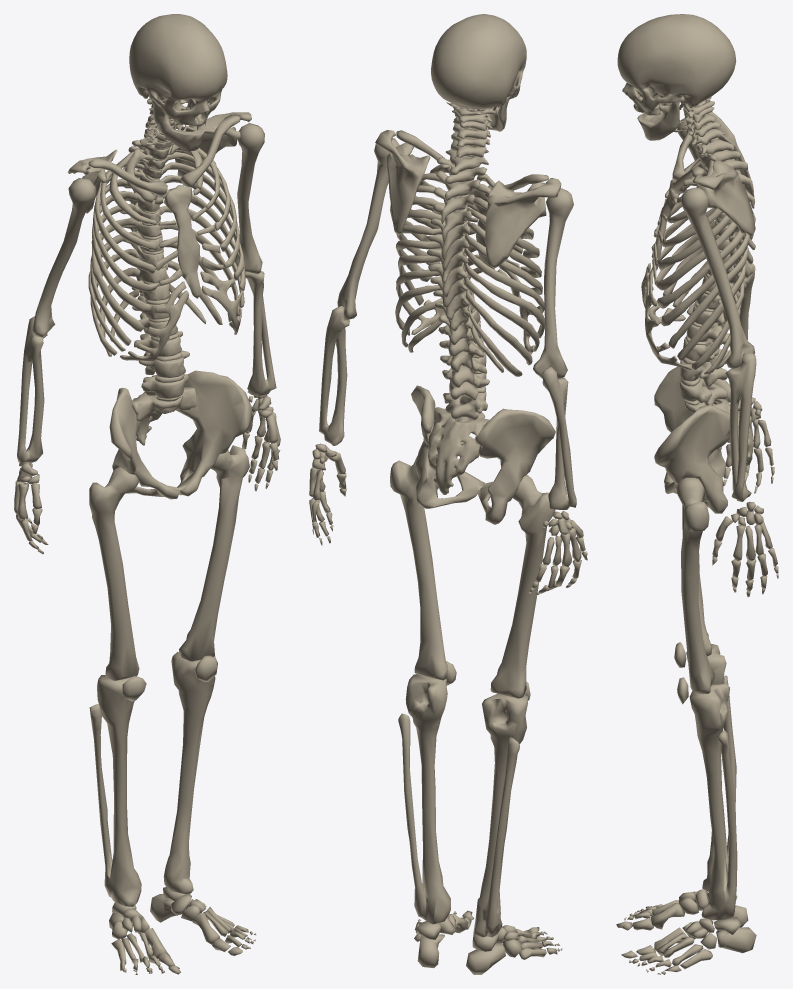
The model's file is icrp_adult_female.skeletal.LOD2.glb.
3 renders of one model, left to right at view 1: azimuth 30°, elevation 25°; view 2: azimuth 150°, elevation 25°; view 3: azimuth 270°, elevation 25°, orthographic.
Parts seen in each view (by area): view 1: ICRP.ADULT.FEMALE.SKELETAL.RIBS_CORTICAL, ICRP.ADULT.FEMALE.SKELETAL.TIBIAE_FIBULAE_AND_PATELLAE_CORTI, ICRP.ADULT.FEMALE.SKELETAL.FEMORA_CORTICAL, ICRP.ADULT.FEMALE.SKELETAL.CRANIUM_CORTICAL, ICRP.ADULT.FEMALE.SKELETAL.PELVIS_CORTICAL, ICRP.ADULT.FEMALE.SKELETAL.ANKLES_AND_FOOT_CORTICAL, ICRP.ADULT.FEMALE.SKELETAL.HUMERI_CORTICAL, ICRP.ADULT.FEMALE.SKELETAL.ULNAE_AND_RADII_CORTICAL, ICRP.ADULT.FEMALE.SKELETAL.WRISTS_AND_HAND_BONES_CORTICAL, ICRP.ADULT.FEMALE.SKELETAL.CARTILAGE_COSTAL, ICRP.ADULT.FEMALE.SKELETAL.THORACIC_SPINE_CORTICAL, ICRP.ADULT.FEMALE.SKELETAL.LUMBAR_SPINE_CORTICAL (+7 smaller); view 2: ICRP.ADULT.FEMALE.SKELETAL.TIBIAE_FIBULAE_AND_PATELLAE_CORTI, ICRP.ADULT.FEMALE.SKELETAL.RIBS_CORTICAL, ICRP.ADULT.FEMALE.SKELETAL.FEMORA_CORTICAL, ICRP.ADULT.FEMALE.SKELETAL.PELVIS_CORTICAL, ICRP.ADULT.FEMALE.SKELETAL.CRANIUM_CORTICAL, ICRP.ADULT.FEMALE.SKELETAL.SCAPULAE_CORTICAL, ICRP.ADULT.FEMALE.SKELETAL.THORACIC_SPINE_CORTICAL, ICRP.ADULT.FEMALE.SKELETAL.HUMERI_CORTICAL, ICRP.ADULT.FEMALE.SKELETAL.ULNAE_AND_RADII_CORTICAL, ICRP.ADULT.FEMALE.SKELETAL.WRISTS_AND_HAND_BONES_CORTICAL, ICRP.ADULT.FEMALE.SKELETAL.ANKLES_AND_FOOT_CORTICAL, ICRP.ADULT.FEMALE.SKELETAL.LUMBAR_SPINE_CORTICAL (+4 smaller); view 3: ICRP.ADULT.FEMALE.SKELETAL.CRANIUM_CORTICAL, ICRP.ADULT.FEMALE.SKELETAL.TIBIAE_FIBULAE_AND_PATELLAE_CORTI, ICRP.ADULT.FEMALE.SKELETAL.RIBS_CORTICAL, ICRP.ADULT.FEMALE.SKELETAL.PELVIS_CORTICAL, ICRP.ADULT.FEMALE.SKELETAL.ANKLES_AND_FOOT_CORTICAL, ICRP.ADULT.FEMALE.SKELETAL.FEMORA_CORTICAL, ICRP.ADULT.FEMALE.SKELETAL.WRISTS_AND_HAND_BONES_CORTICAL, ICRP.ADULT.FEMALE.SKELETAL.HUMERI_CORTICAL, ICRP.ADULT.FEMALE.SKELETAL.ULNAE_AND_RADII_CORTICAL, ICRP.ADULT.FEMALE.SKELETAL.SCAPULAE_CORTICAL, ICRP.ADULT.FEMALE.SKELETAL.LUMBAR_SPINE_CORTICAL, ICRP.ADULT.FEMALE.SKELETAL.THORACIC_SPINE_CORTICAL (+7 smaller).
Boxes of the visible parts, <box> form: ICRP.ADULT.FEMALE.SKELETAL.RIBS_CORTICAL: <box>88,144,245,356</box>; ICRP.ADULT.FEMALE.SKELETAL.TIBIAE_FIBULAE_AND_PATELLAE_CORTI: <box>89,652,217,906</box>; ICRP.ADULT.FEMALE.SKELETAL.FEMORA_CORTICAL: <box>89,445,249,680</box>; ICRP.ADULT.FEMALE.SKELETAL.CRANIUM_CORTICAL: <box>129,14,227,126</box>; ICRP.ADULT.FEMALE.SKELETAL.PELVIS_CORTICAL: <box>109,370,251,499</box>; ICRP.ADULT.FEMALE.SKELETAL.ANKLES_AND_FOOT_CORTICAL: <box>109,887,256,974</box>; ICRP.ADULT.FEMALE.SKELETAL.HUMERI_CORTICAL: <box>32,123,264,337</box>; ICRP.ADULT.FEMALE.SKELETAL.ULNAE_AND_RADII_CORTICAL: <box>17,271,276,462</box>; ICRP.ADULT.FEMALE.SKELETAL.WRISTS_AND_HAND_BONES_CORTICAL: <box>14,394,280,554</box>; ICRP.ADULT.FEMALE.SKELETAL.CARTILAGE_COSTAL: <box>120,188,242,361</box>; ICRP.ADULT.FEMALE.SKELETAL.THORACIC_SPINE_CORTICAL: <box>120,134,170,300</box>; ICRP.ADULT.FEMALE.SKELETAL.LUMBAR_SPINE_CORTICAL: <box>132,294,189,398</box>; ICRP.ADULT.FEMALE.SKELETAL.TIBIAE_FIBULAE_AND_PATELLAE_CORTI: <box>398,661,530,937</box>; ICRP.ADULT.FEMALE.SKELETAL.RIBS_CORTICAL: <box>395,164,544,376</box>; ICRP.ADULT.FEMALE.SKELETAL.FEMORA_CORTICAL: <box>390,456,555,698</box>; ICRP.ADULT.FEMALE.SKELETAL.PELVIS_CORTICAL: <box>411,385,555,524</box>; ICRP.ADULT.FEMALE.SKELETAL.CRANIUM_CORTICAL: <box>431,14,526,110</box>; ICRP.ADULT.FEMALE.SKELETAL.SCAPULAE_CORTICAL: <box>375,130,561,268</box>; ICRP.ADULT.FEMALE.SKELETAL.THORACIC_SPINE_CORTICAL: <box>427,157,487,345</box>; ICRP.ADULT.FEMALE.SKELETAL.HUMERI_CORTICAL: <box>337,138,573,378</box>; ICRP.ADULT.FEMALE.SKELETAL.ULNAE_AND_RADII_CORTICAL: <box>319,306,576,509</box>; ICRP.ADULT.FEMALE.SKELETAL.WRISTS_AND_HAND_BONES_CORTICAL: <box>309,443,587,595</box>; ICRP.ADULT.FEMALE.SKELETAL.ANKLES_AND_FOOT_CORTICAL: <box>414,910,562,974</box>; ICRP.ADULT.FEMALE.SKELETAL.LUMBAR_SPINE_CORTICAL: <box>438,324,489,420</box>; ICRP.ADULT.FEMALE.SKELETAL.CRANIUM_CORTICAL: <box>617,14,736,115</box>; ICRP.ADULT.FEMALE.SKELETAL.TIBIAE_FIBULAE_AND_PATELLAE_CORTI: <box>674,642,737,920</box>; ICRP.ADULT.FEMALE.SKELETAL.RIBS_CORTICAL: <box>651,157,749,374</box>; ICRP.ADULT.FEMALE.SKELETAL.PELVIS_CORTICAL: <box>654,366,730,513</box>; ICRP.ADULT.FEMALE.SKELETAL.ANKLES_AND_FOOT_CORTICAL: <box>616,889,756,974</box>; ICRP.ADULT.FEMALE.SKELETAL.FEMORA_CORTICAL: <box>676,477,714,693</box>; ICRP.ADULT.FEMALE.SKELETAL.WRISTS_AND_HAND_BONES_CORTICAL: <box>712,397,778,597</box>; ICRP.ADULT.FEMALE.SKELETAL.HUMERI_CORTICAL: <box>677,118,754,368</box>; ICRP.ADULT.FEMALE.SKELETAL.ULNAE_AND_RADII_CORTICAL: <box>725,263,756,501</box>; ICRP.ADULT.FEMALE.SKELETAL.SCAPULAE_CORTICAL: <box>681,112,755,236</box>; ICRP.ADULT.FEMALE.SKELETAL.LUMBAR_SPINE_CORTICAL: <box>679,304,730,405</box>; ICRP.ADULT.FEMALE.SKELETAL.THORACIC_SPINE_CORTICAL: <box>697,137,755,309</box>.
Size of the model in its own units: 0.4813 by 1.62 by 0.2589.
